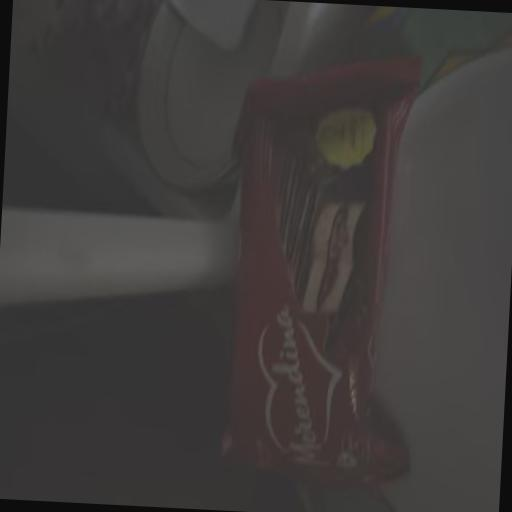merendina: (215, 42, 458, 512)
